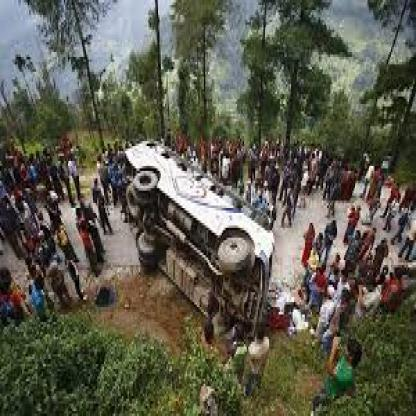accident: (122, 125, 290, 384)
